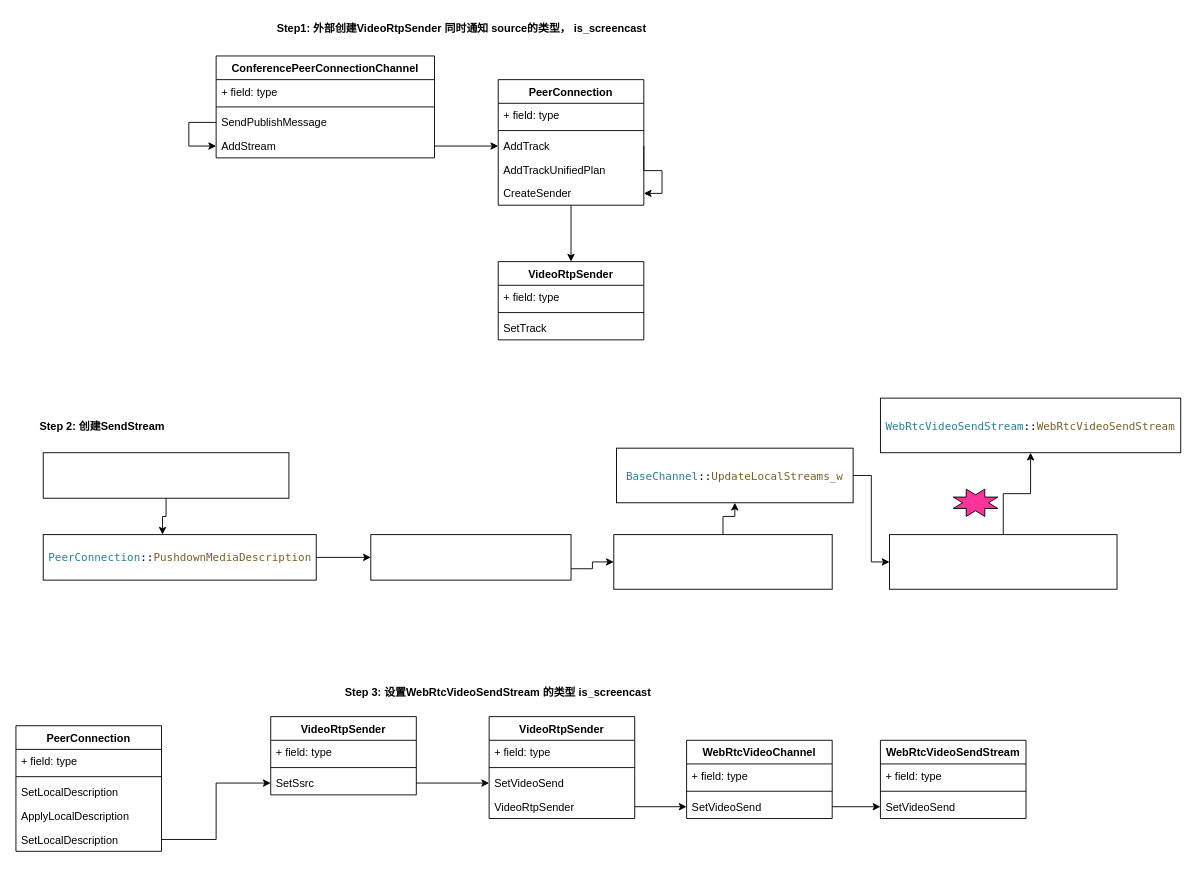
The diagram is 1197 pixels wide and 869 high, and some of its shapes have lost their labels. Each missing label, with the centre of its shape:
"BaseChannel :: SetLocalContent" belongs at point 470,557.
"PeerConnection :: UpdateSessionState" belongs at point 165,475.
"VideoChannel :: SetLocalContent_w" belongs at point 722,561.
"WebRtcVideoChannel :: AddSendStream" belongs at point 1003,561.
